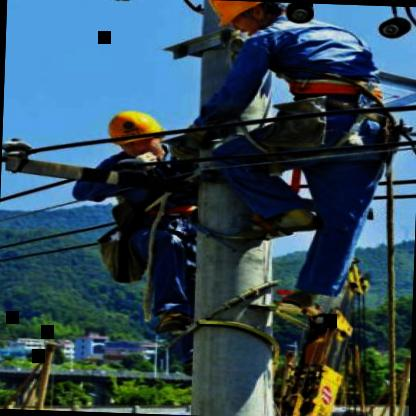helmet: (99, 106, 170, 162), (204, 0, 290, 38)
